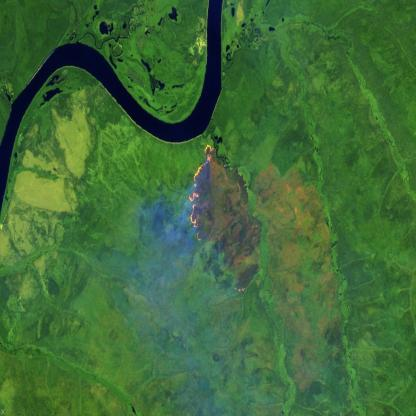fire: (186, 139, 214, 244), (231, 284, 247, 298)
